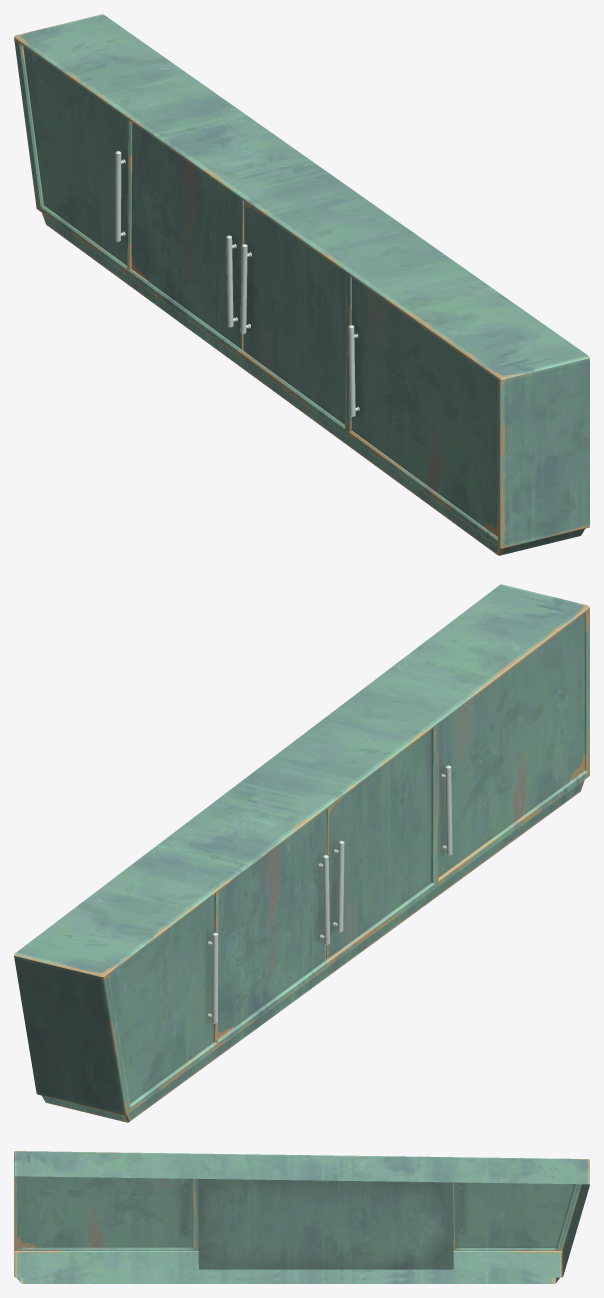
The model's file is SM_Kitchen_Shelf_A.fbx.
3 renders of one model, top to bottom at view 1: azimuth 30°, elevation 25°; view 2: azimuth 150°, elevation 25°; view 3: azimuth 270°, elevation 25°, orthographic. The views are drawn at different scales.
Visible parts, largest first — view 1: SM_Kitchen_Shelf_A_LOD0; view 2: SM_Kitchen_Shelf_A_LOD0; view 3: SM_Kitchen_Shelf_A_LOD0.
Part boxes in pixels (bbox=[...]): SM_Kitchen_Shelf_A_LOD0: bbox=[14, 14, 589, 555]; SM_Kitchen_Shelf_A_LOD0: bbox=[14, 584, 589, 1122]; SM_Kitchen_Shelf_A_LOD0: bbox=[14, 1151, 589, 1283].
Bounding box in the file's own units: 53.31 × 473 × 98.42.
Materials: 1 (1 with a texture image).
